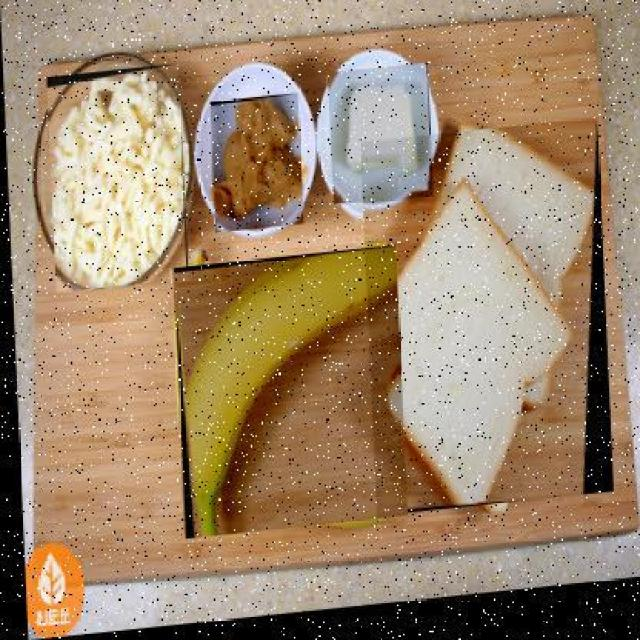Banana: (184, 240, 395, 539)
